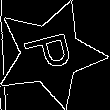P_E: (20, 30, 81, 79)
